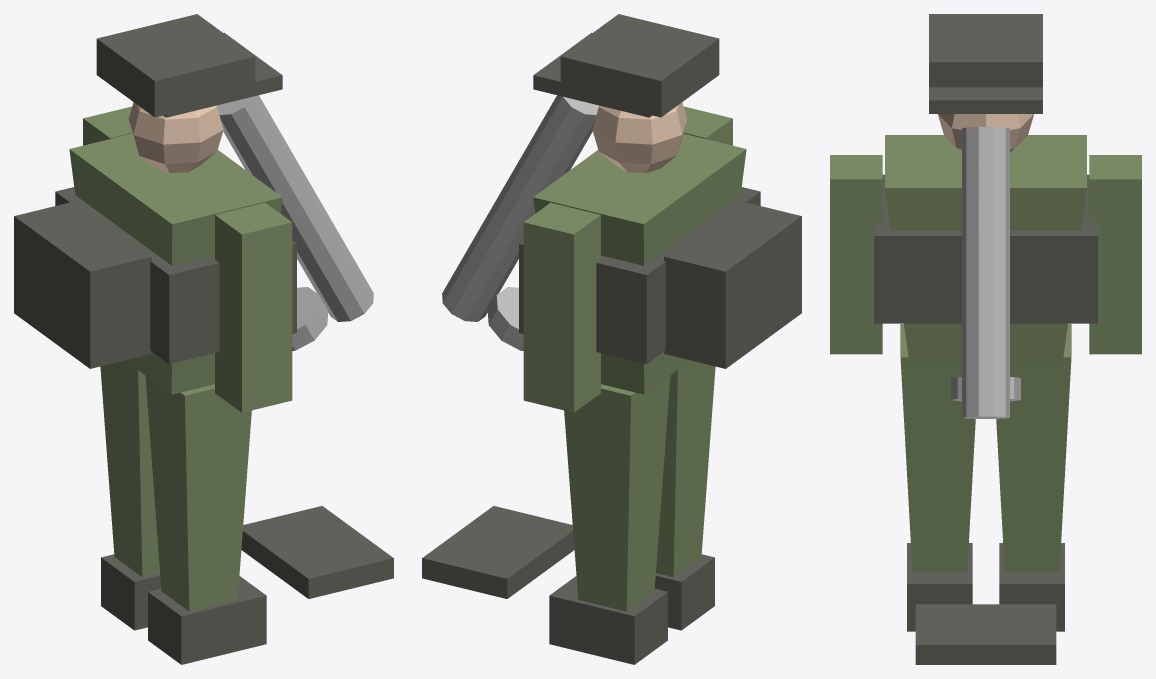
File: unit_mortar.glb
3 renders of one model, left to right at view 1: azimuth 30°, elevation 25°; view 2: azimuth 150°, elevation 25°; view 3: azimuth 270°, elevation 25°, orthographic.
Visible parts, largest first — view 1: MortarTeam, accent_upper_MortarTeam, accent_MortarTeam, upper_MortarTeam, trim_upper_MortarTeam, skin_upper_MortarTeam, trim_MortarTeam; view 2: MortarTeam, accent_upper_MortarTeam, accent_MortarTeam, upper_MortarTeam, trim_upper_MortarTeam, skin_upper_MortarTeam, trim_MortarTeam; view 3: MortarTeam, accent_upper_MortarTeam, upper_MortarTeam, accent_MortarTeam, trim_upper_MortarTeam, skin_upper_MortarTeam, trim_MortarTeam.
Part boxes in pixels (x1,y1,x2,y2): MortarTeam: (69,133,282,611); accent_upper_MortarTeam: (14,14,296,368); accent_MortarTeam: (101,506,393,664); upper_MortarTeam: (83,106,292,412); trim_upper_MortarTeam: (217,95,373,321); skin_upper_MortarTeam: (128,102,223,172); trim_MortarTeam: (292,287,328,350); MortarTeam: (533,133,746,611); accent_upper_MortarTeam: (519,14,801,368); accent_MortarTeam: (422,506,714,664); upper_MortarTeam: (523,106,732,412); trim_upper_MortarTeam: (442,95,598,321); skin_upper_MortarTeam: (592,102,687,172); trim_MortarTeam: (487,287,523,350); MortarTeam: (885,135,1086,571); accent_upper_MortarTeam: (874,14,1097,323); upper_MortarTeam: (830,155,1141,354); accent_MortarTeam: (907,543,1064,664); trim_upper_MortarTeam: (962,127,1009,418); skin_upper_MortarTeam: (938,114,1033,152); trim_MortarTeam: (951,377,1020,401).
Bounding box in the file's own units: 0.8211 × 1.43 × 0.71.
